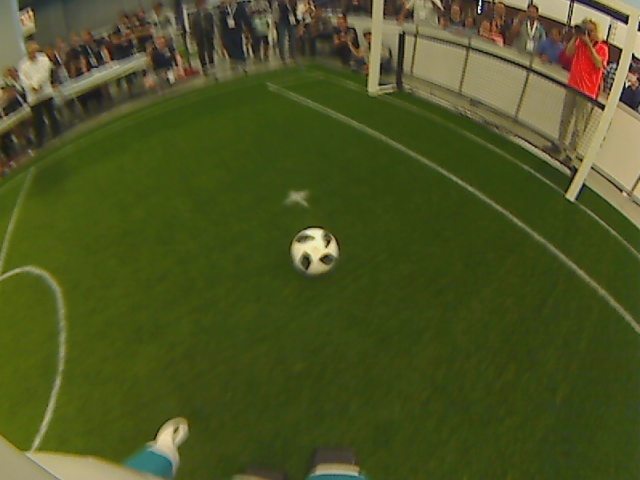ball: (288, 227, 340, 276)
